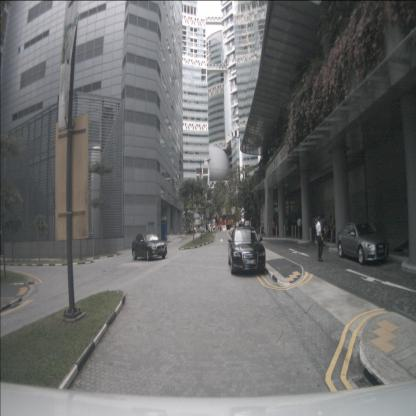barrier: (221, 225, 226, 231)
